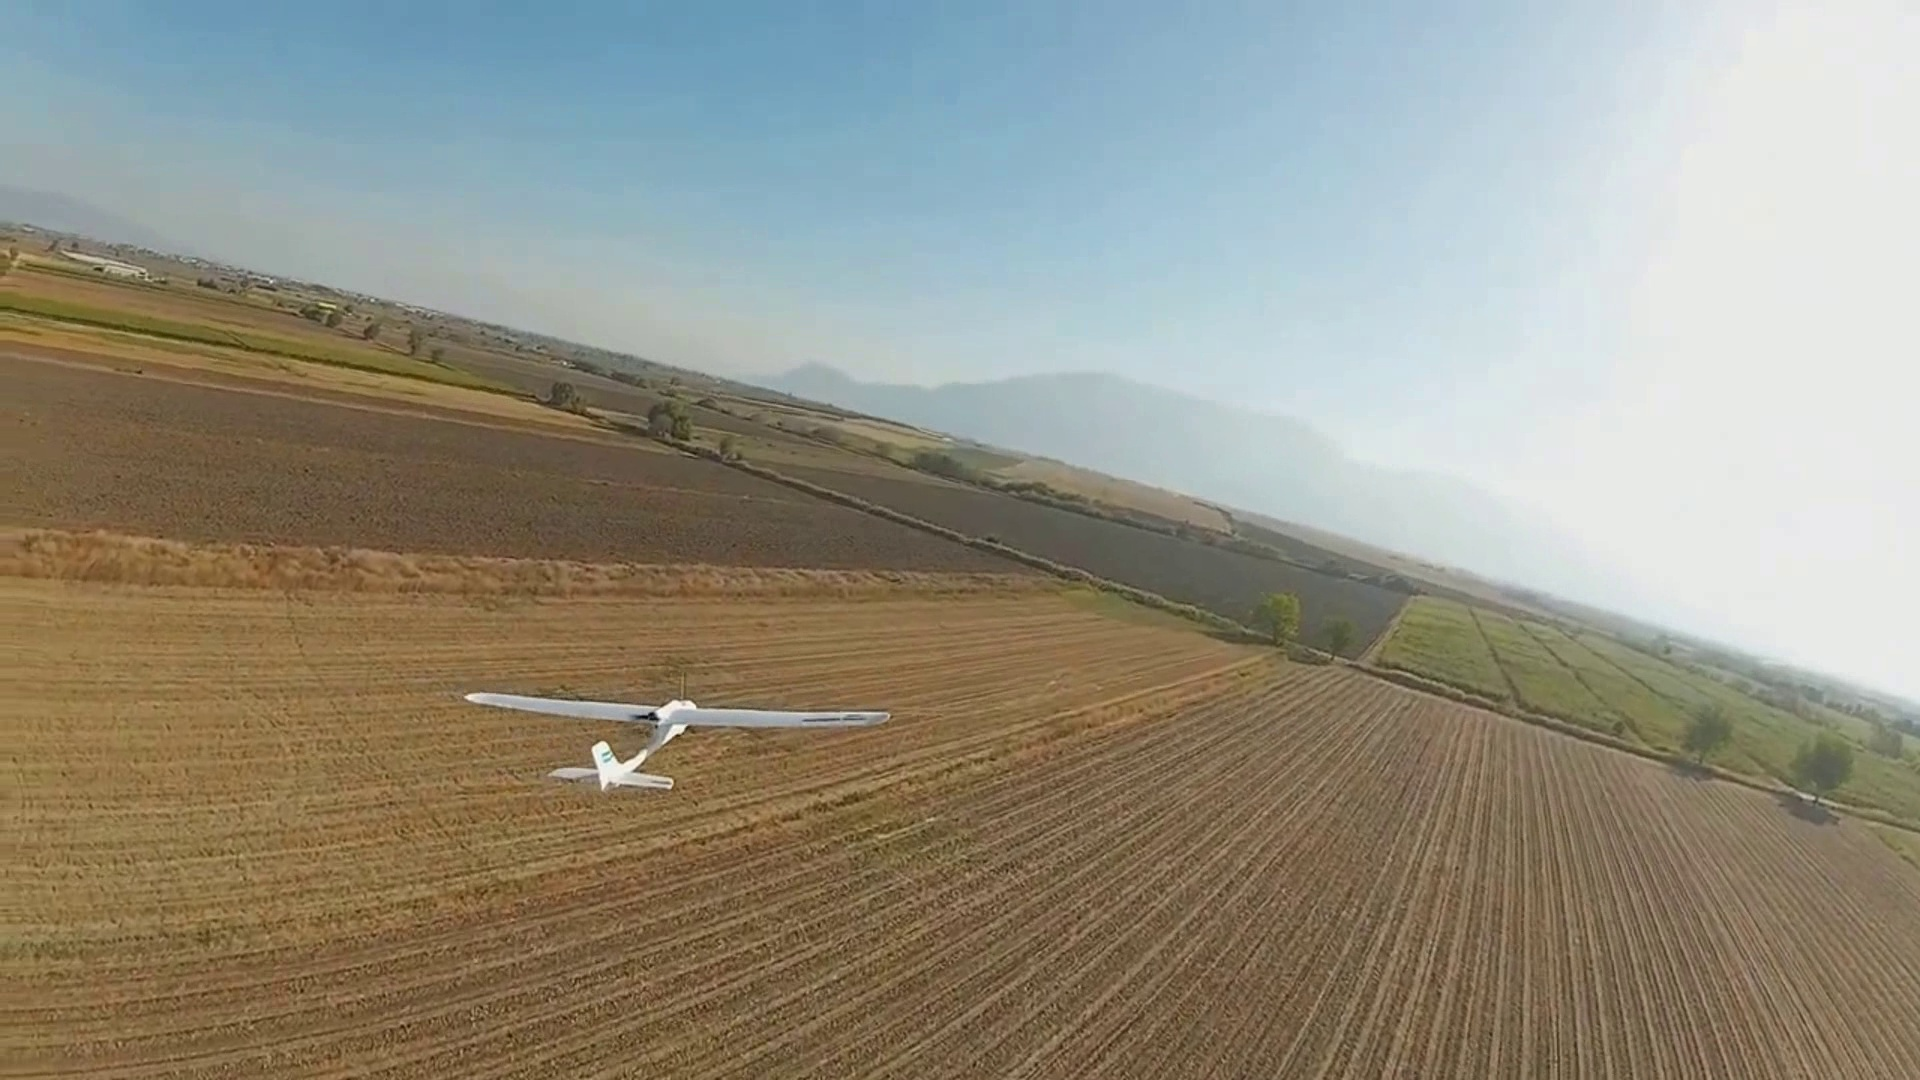airplane: (463, 689, 890, 796)
